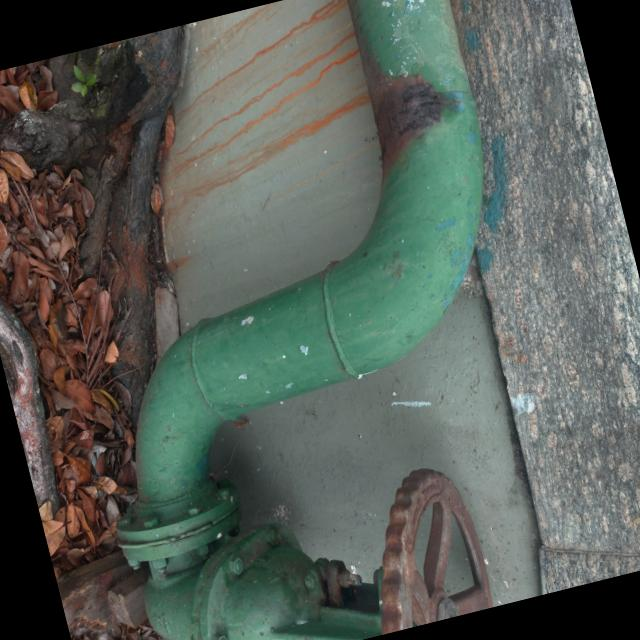gas: (12, 0, 557, 541)
